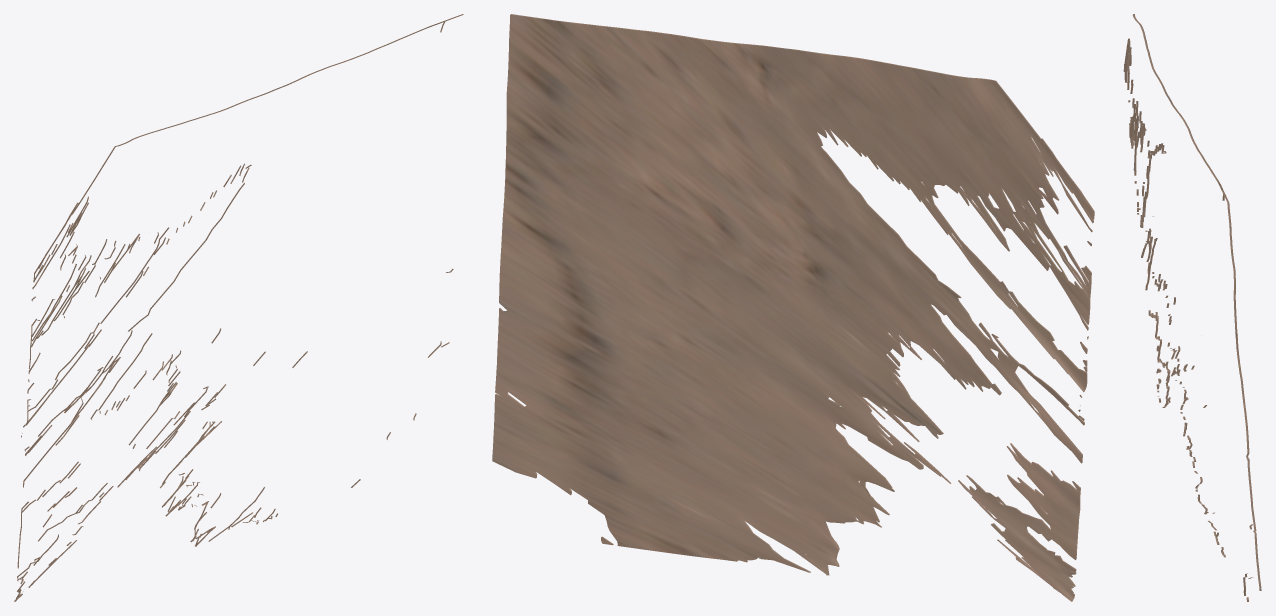
3 renders of one model, left to right at view 1: azimuth 30°, elevation 25°; view 2: azimuth 150°, elevation 25°; view 3: azimuth 270°, elevation 25°, orthographic. The views are drawn at different scales.
Bounding box in the file's own units: 26.62 × 24 × 6.77.
Materials: 1 (1 with a texture image).
